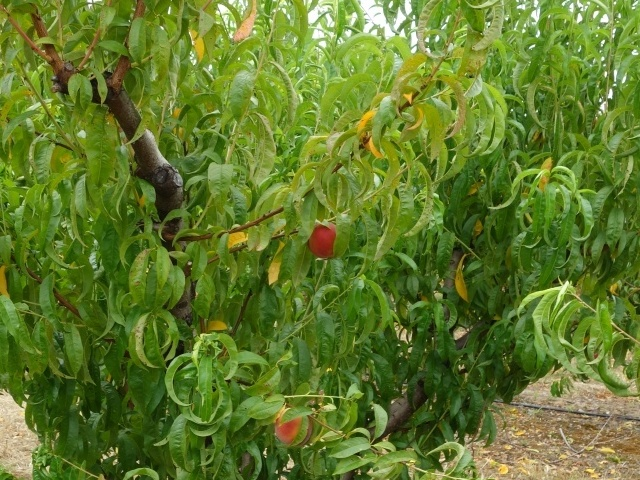peach: (266, 405, 317, 448), (298, 219, 341, 261)
